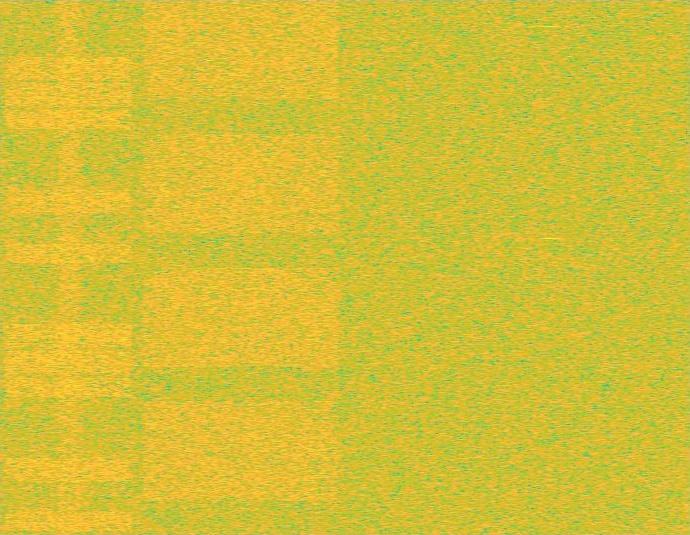5G: (138, 0, 345, 534)
DSSS: (53, 0, 85, 534)
LTE: (0, 0, 138, 534)
Radar: (544, 0, 558, 534)
